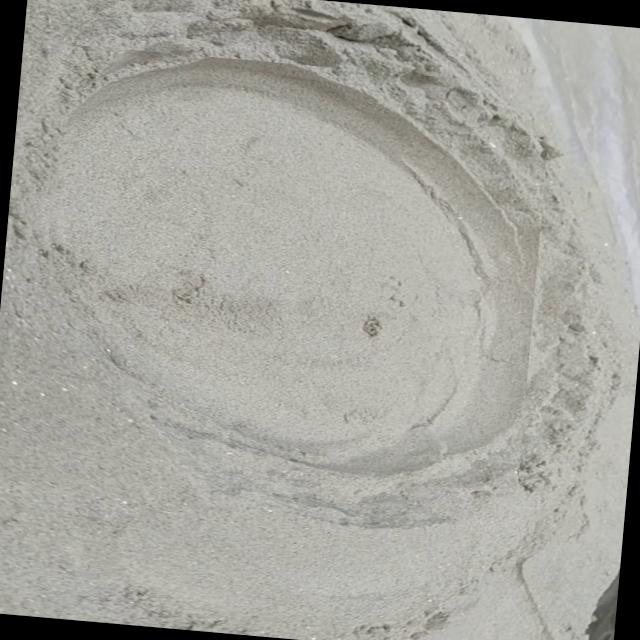C40: (46, 55, 536, 476)
